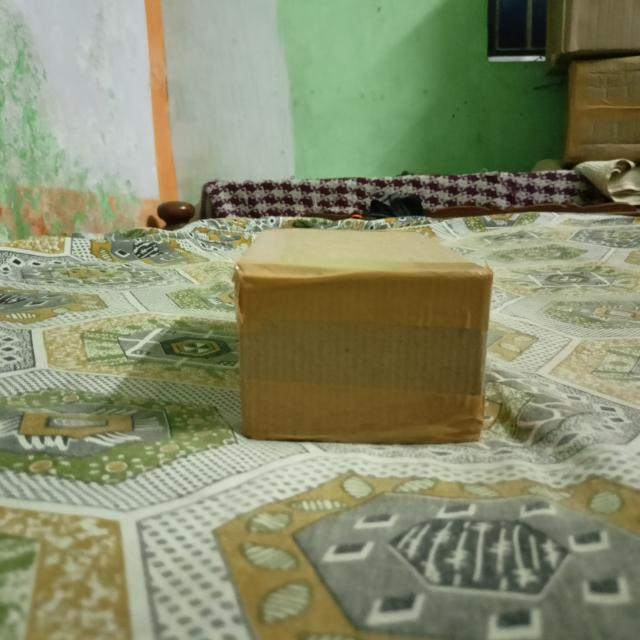box: (235, 270, 490, 437)
